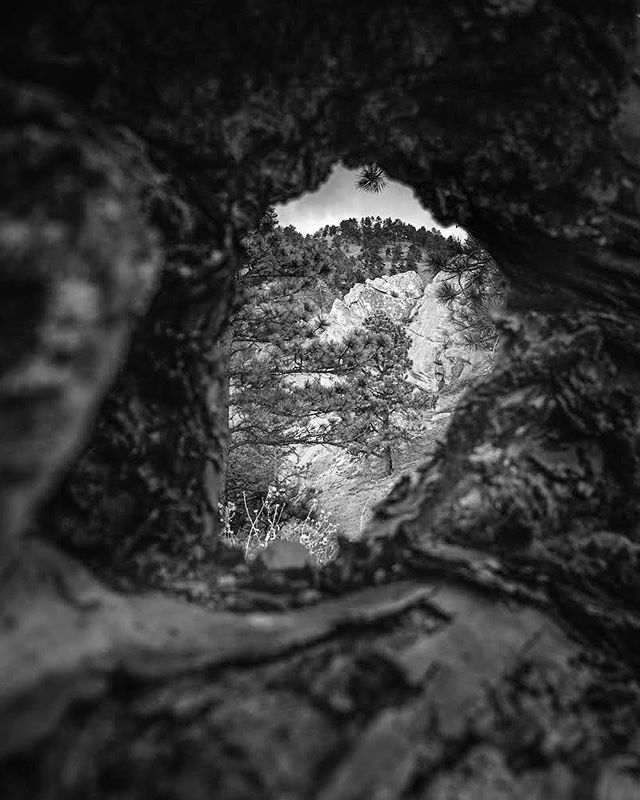tree: (227, 243, 344, 514), (330, 321, 427, 478)
